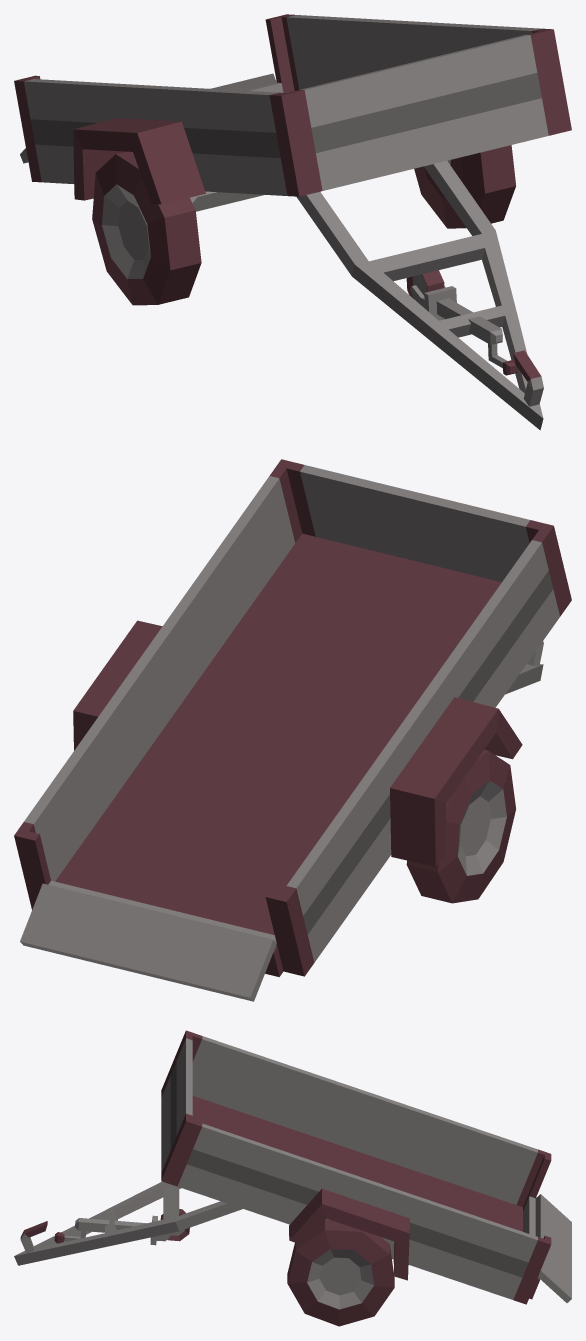
The model's file is trailer-small-loading.fbx.
The picture shows the model from 3 angles, top to bottom: view 1: azimuth 30°, elevation 25°; view 2: azimuth 150°, elevation 25°; view 3: azimuth 270°, elevation 25°; orthographic projection. The views are drawn at different scales.
Visible parts, largest first — view 1: trailer-small-loading; view 2: trailer-small-loading; view 3: trailer-small-loading.
Boxes of the visible parts, box(x1,y1,x2,y2) form: trailer-small-loading: box(14, 14, 571, 430); trailer-small-loading: box(14, 459, 571, 1001); trailer-small-loading: box(14, 1030, 571, 1326).
Size of the model in its own units: 1.47 by 1.09 by 2.86.
